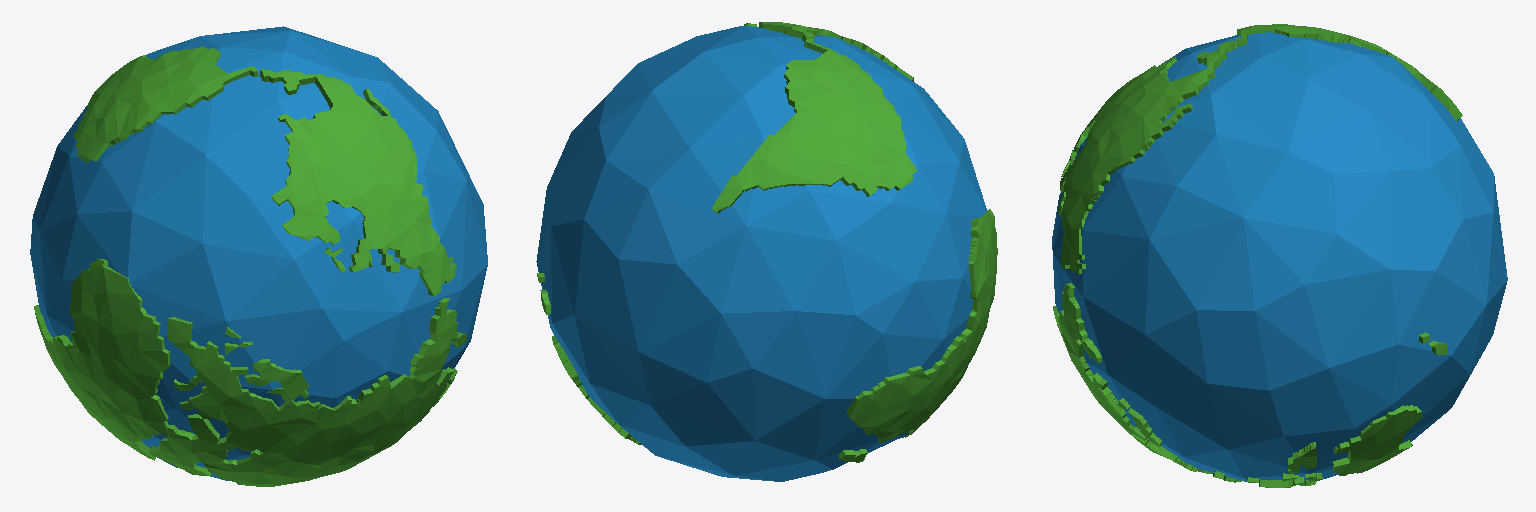
File: LowPolyEarth_red.obj
The picture shows the model from 3 angles: view 1: azimuth 30°, elevation 25°; view 2: azimuth 150°, elevation 25°; view 3: azimuth 270°, elevation 25°; orthographic projection.
Size of the model in its own units: 206 by 207 by 206.